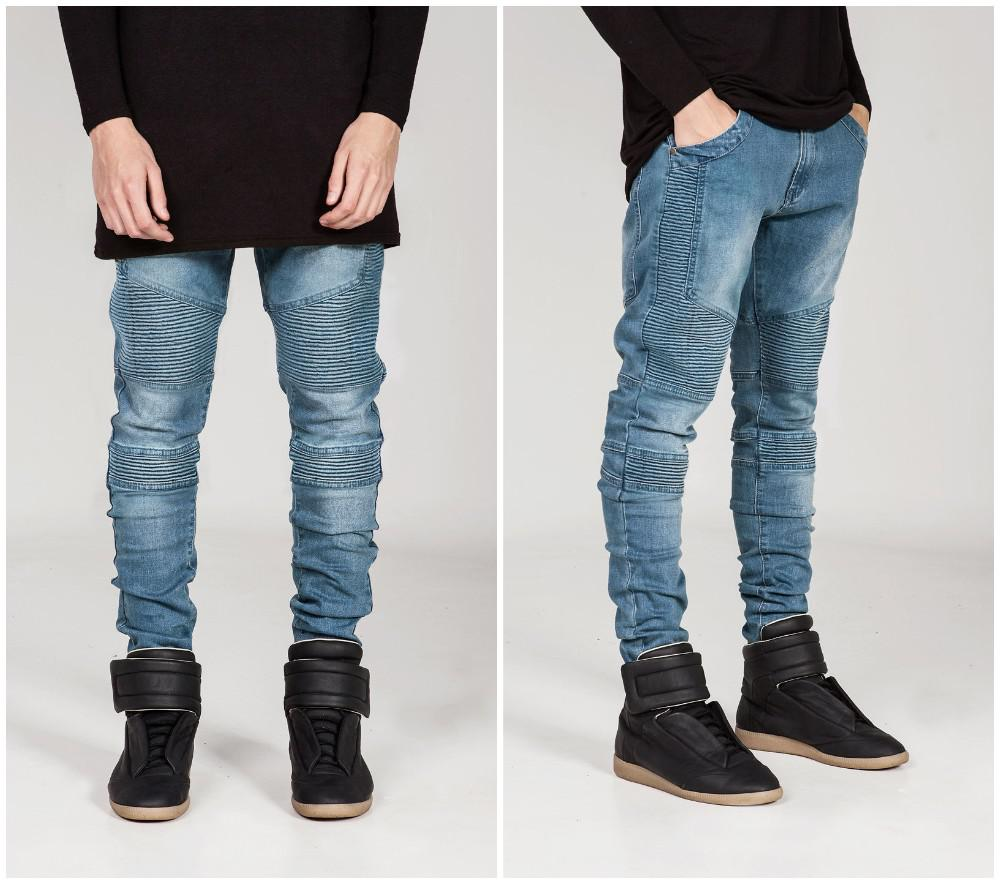jeans: (31, 130, 398, 668), (592, 105, 899, 698)
